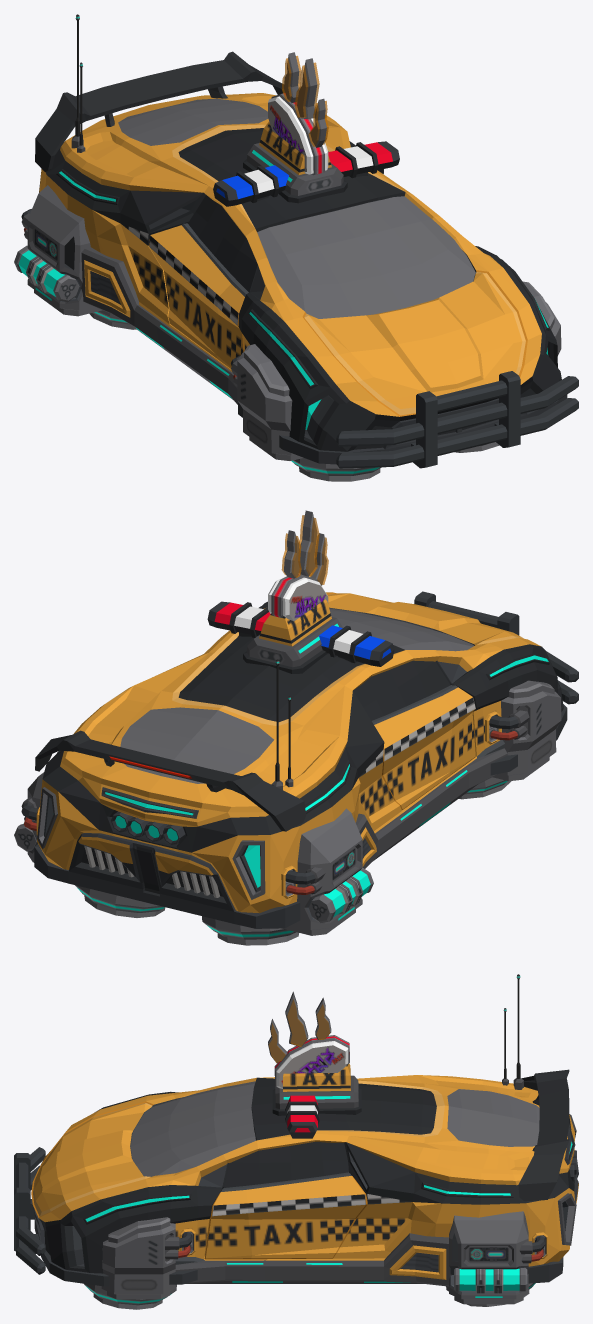
Rendered from SM_Veh_Luxury_Car_01.fbx.
3 views of the same model, one above another, from view 1: azimuth 30°, elevation 25°; view 2: azimuth 150°, elevation 25°; view 3: azimuth 270°, elevation 25° (orthographic). The views are drawn at different scales.
Visible parts, largest first — view 1: SM_Veh_Luxury_Car_01, SM_Veh_Luxury_Car_01_Glass_02, SM_Veh_Luxury_Car_01_Flames_01; view 2: SM_Veh_Luxury_Car_01, SM_Veh_Luxury_Car_01_Glass_02, SM_Veh_Luxury_Car_01_Flames_01; view 3: SM_Veh_Luxury_Car_01, SM_Veh_Luxury_Car_01_Glass_01, SM_Veh_Luxury_Car_01_Flames_01.
Part boxes in pixels (x1,y1,x2,y2): SM_Veh_Luxury_Car_01: (14,14,578,481); SM_Veh_Luxury_Car_01_Glass_02: (187,195,257,291); SM_Veh_Luxury_Car_01_Flames_01: (281,55,328,146); SM_Veh_Luxury_Car_01: (14,510,578,945); SM_Veh_Luxury_Car_01_Glass_02: (353,660,450,720); SM_Veh_Luxury_Car_01_Flames_01: (281,515,328,584); SM_Veh_Luxury_Car_01: (14,974,578,1309); SM_Veh_Luxury_Car_01_Glass_01: (224,1142,348,1187); SM_Veh_Luxury_Car_01_Flames_01: (268,999,330,1062).
Size of the model in its own units: 309 by 301 by 547.
